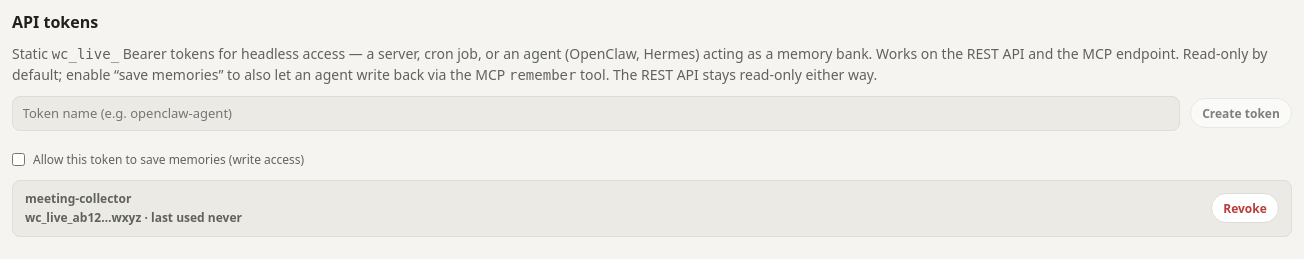
it: ApiKeysSection › revokes a token and removes it from the list
The width and height of the screenshot is (1304, 259).
Click the button with test id "api-key-revoke-key-1" at (1245, 208), box top-left (1211, 193), bottom-right (1279, 223)
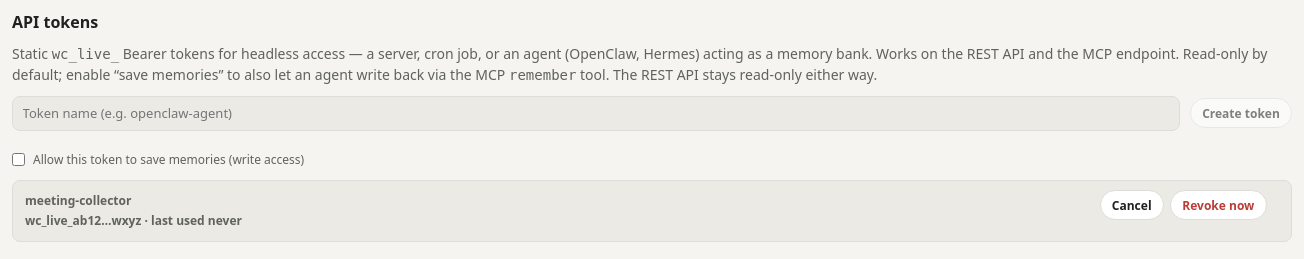
// Revoking is destructive for live integrations — it now takes a confirm.
Click the button with test id "api-key-revoke-confirm-key-1" at (1218, 205), box top-left (1170, 190), bottom-right (1266, 220)
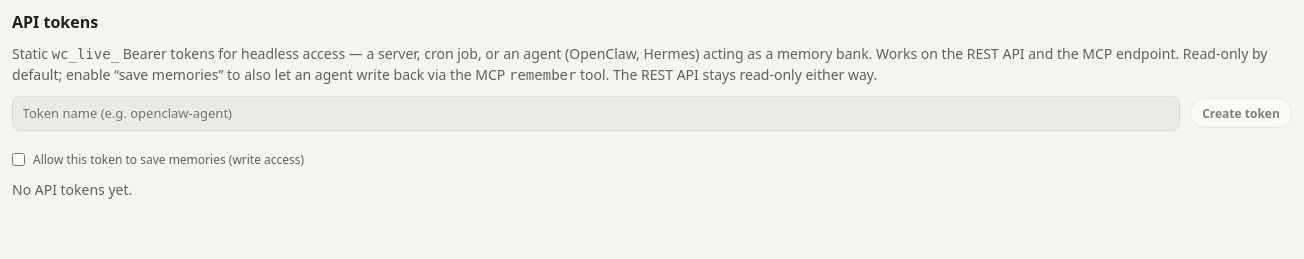
Now the list item with test id "api-key-key-1" is gone
